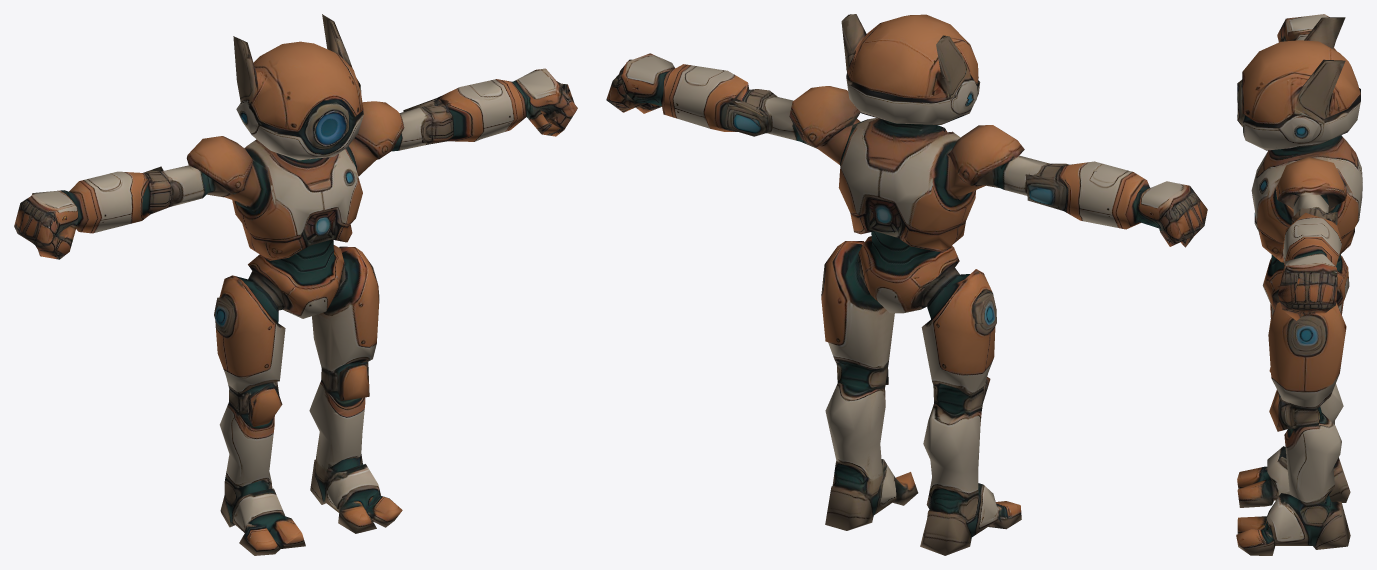
Rendered from HB1Tripo.fbx.
3 views of the same model, side by side, from view 1: azimuth 30°, elevation 25°; view 2: azimuth 150°, elevation 25°; view 3: azimuth 270°, elevation 25° (orthographic). The views are drawn at different scales.
Parts seen in each view (by area): view 1: tripo_node_fd737e9c; view 2: tripo_node_fd737e9c; view 3: tripo_node_fd737e9c.
Boxes of the visible parts, x1=… form: tripo_node_fd737e9c: x1=14, y1=14, x2=577, y2=555; tripo_node_fd737e9c: x1=606, y1=14, x2=1207, y2=555; tripo_node_fd737e9c: x1=1236, y1=14, x2=1362, y2=555.
Bounding box in the file's own units: 100 × 19.84 × 83.42.
Materials: 1 (1 with a texture image).
